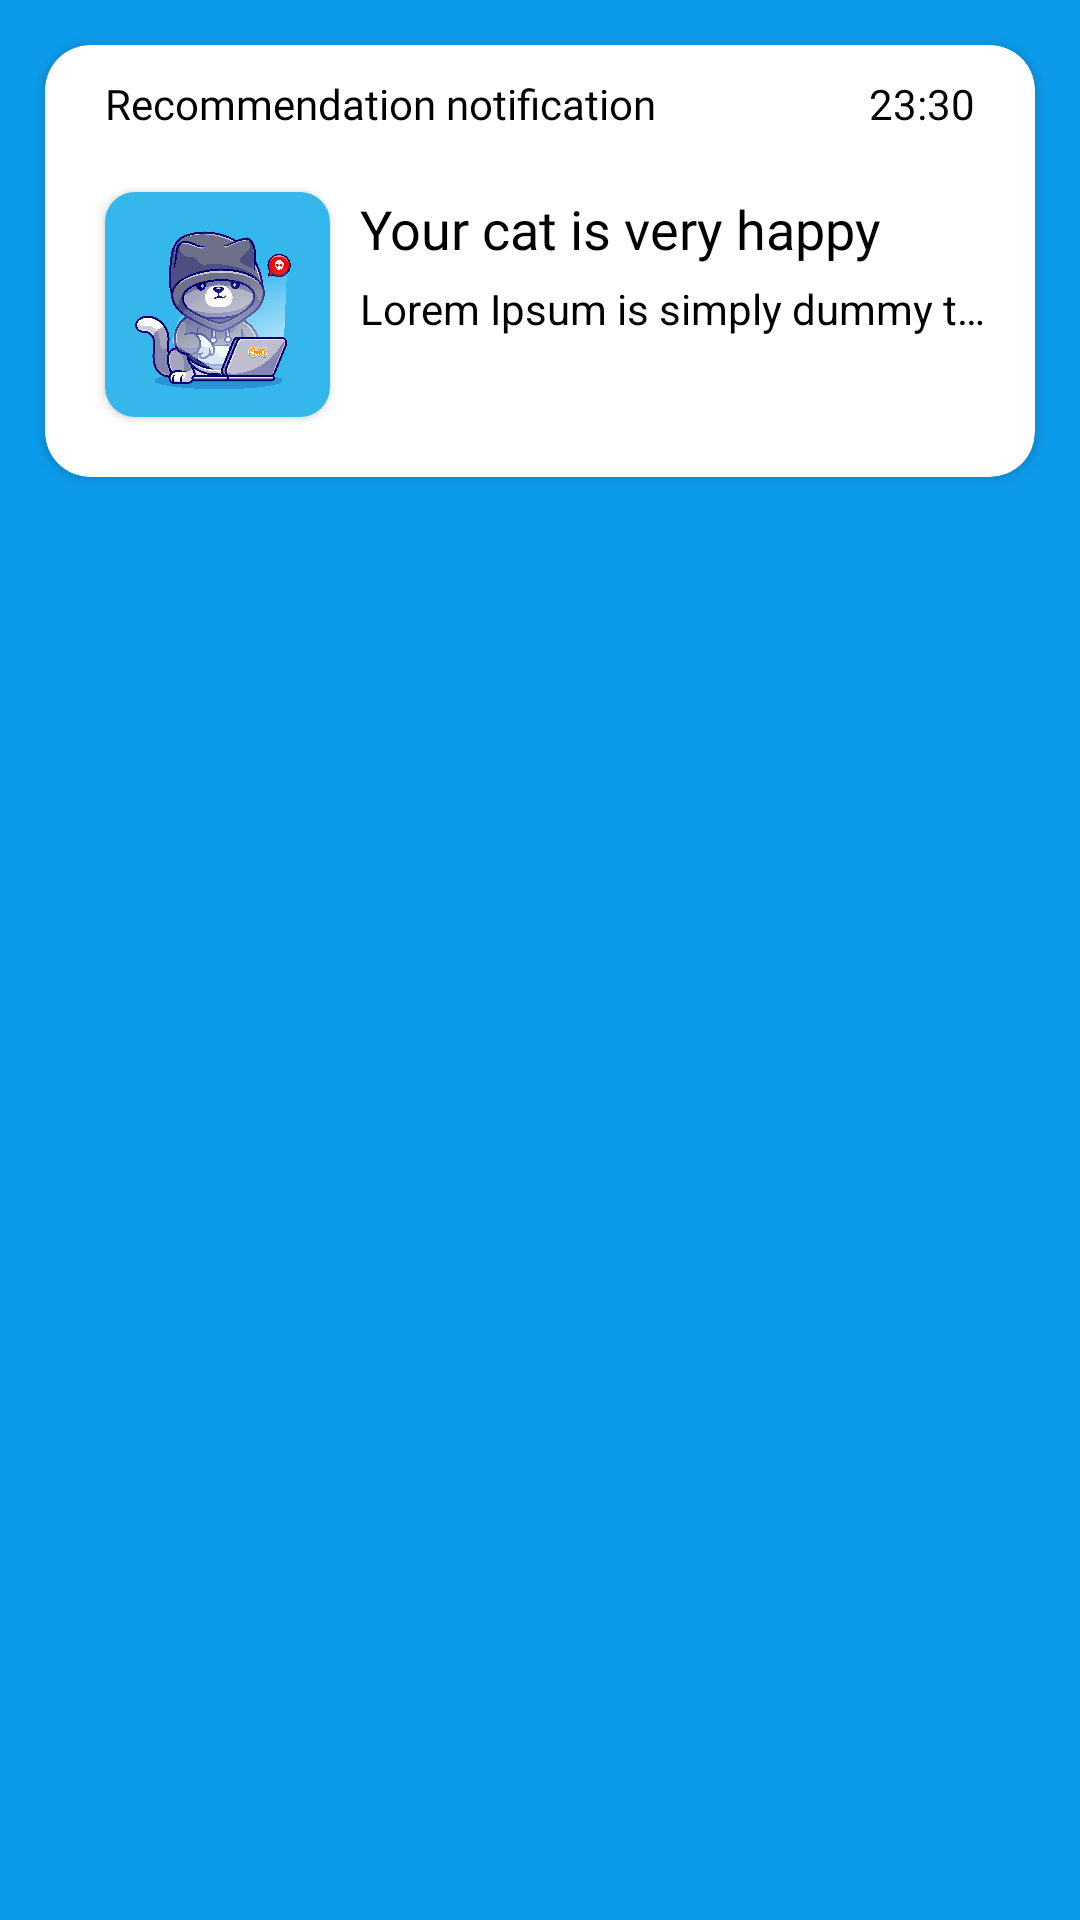

Icons on this 1080×1920 Android screen, each with the point to tap as (x=x, y=y):
cat and error: (x=217, y=304)
